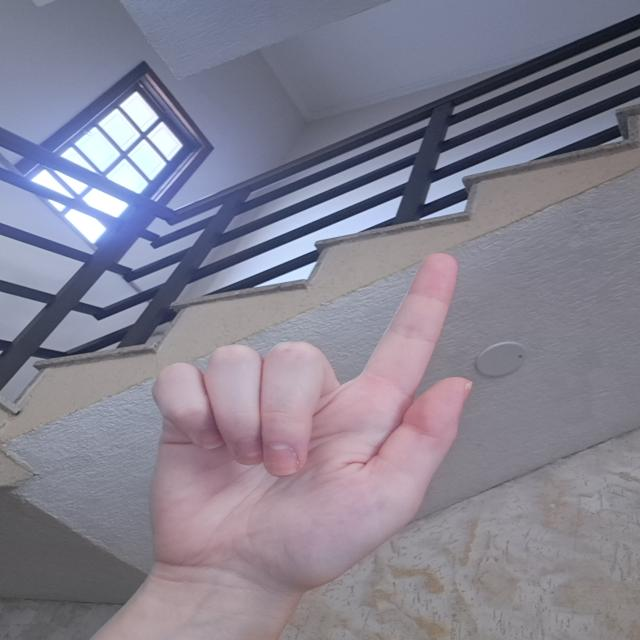G: (130, 247, 492, 577)
